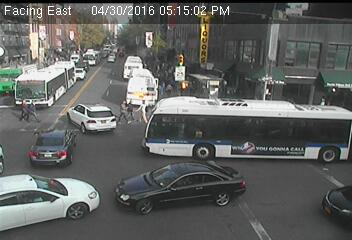neg: (193, 33, 223, 73), (250, 193, 278, 230), (76, 172, 102, 208), (155, 156, 181, 191), (81, 98, 106, 132), (242, 66, 267, 99), (43, 152, 67, 183), (222, 161, 244, 191), (275, 115, 297, 144), (306, 64, 327, 93), (169, 97, 190, 124), (74, 35, 94, 62), (294, 185, 314, 211), (112, 42, 131, 68), (43, 58, 61, 83), (229, 122, 246, 144), (10, 29, 27, 51)
pos: (132, 93, 154, 122), (108, 96, 128, 122), (24, 98, 41, 120), (12, 98, 28, 120)
